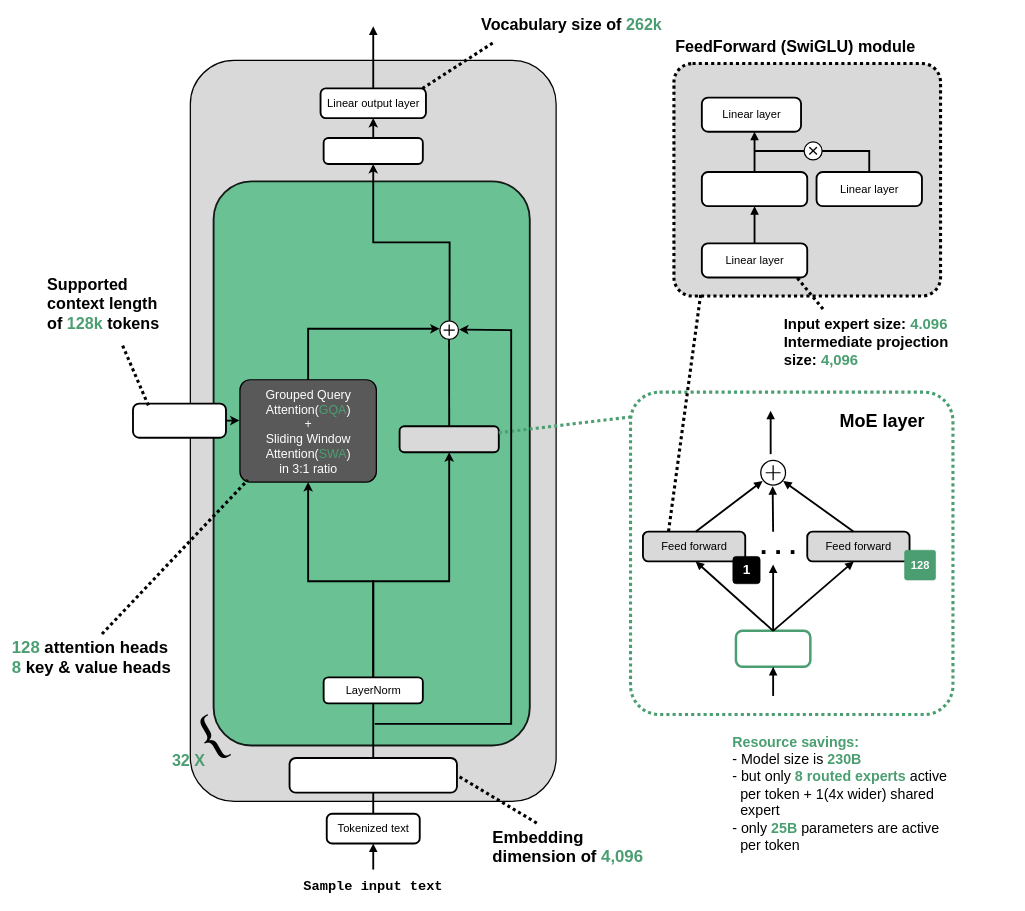
The diagram is 1025 pixels wide and 911 high, and some of its shapes have lost their labels. Each missing label, with the box of its shape:
Final RMSNorm: (322, 137, 423, 165)
MoE: (398, 425, 499, 453)
RoPE + NoPE: (132, 402, 227, 438)
Router: (734, 629, 811, 668)
SiLU activation: (701, 171, 808, 207)
Token embedding layer: (288, 757, 458, 793)
